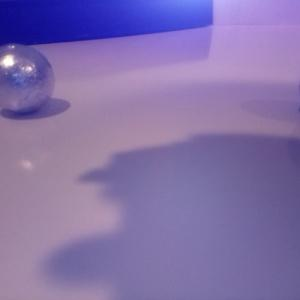alive_ball: (1, 43, 55, 114)
